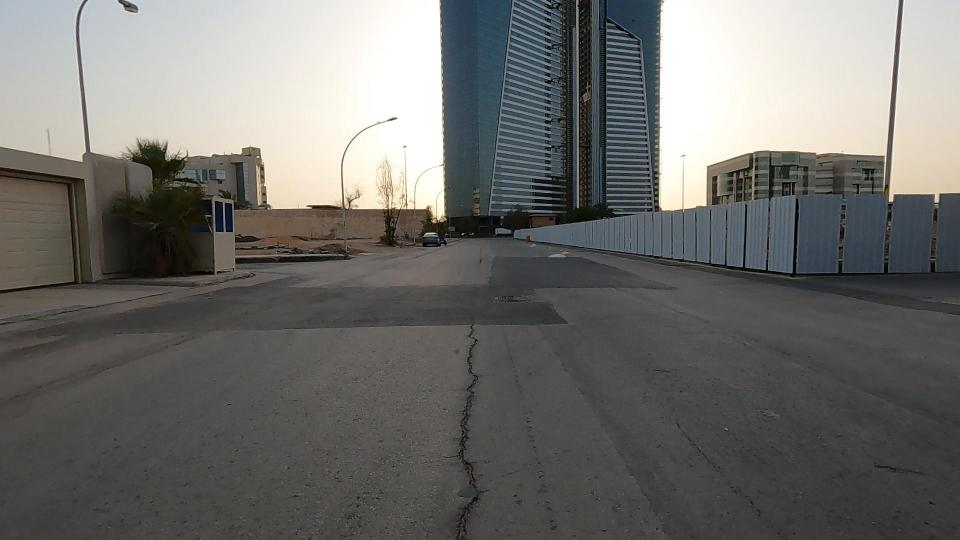POTHOLES: (384, 362, 537, 540), (418, 289, 542, 458), (463, 265, 538, 327)
